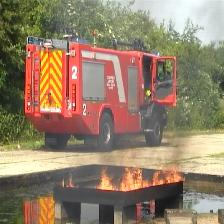fire: (120, 166, 185, 192), (95, 168, 118, 191), (61, 173, 80, 190)
